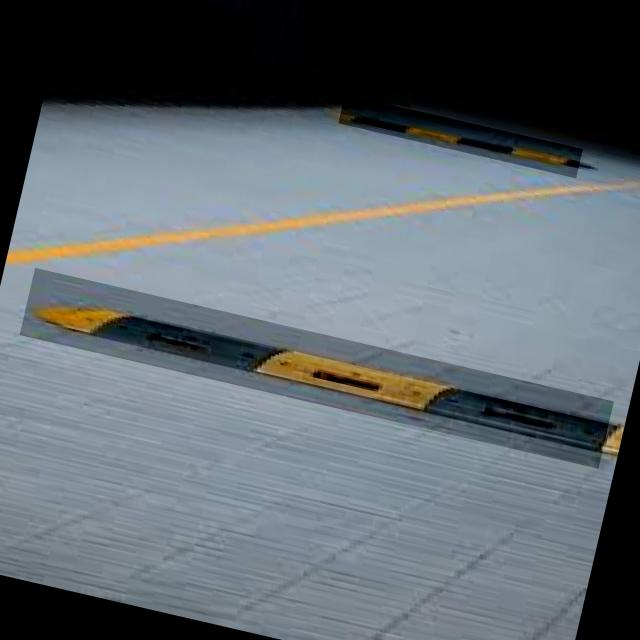bump: (19, 267, 612, 468), (338, 94, 582, 178)
